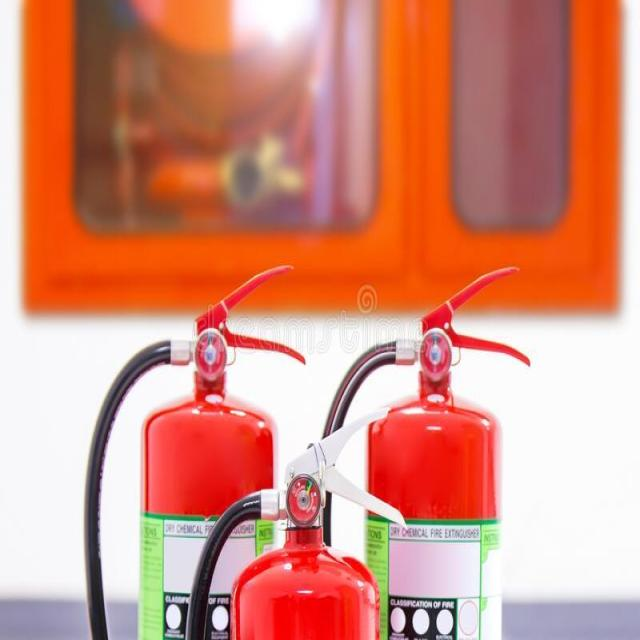fire_extinguisher: (77, 261, 307, 638), (310, 262, 534, 639), (178, 403, 408, 639)
